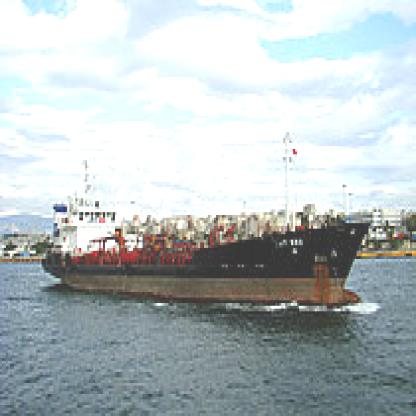Tanker: (38, 152, 382, 320)
